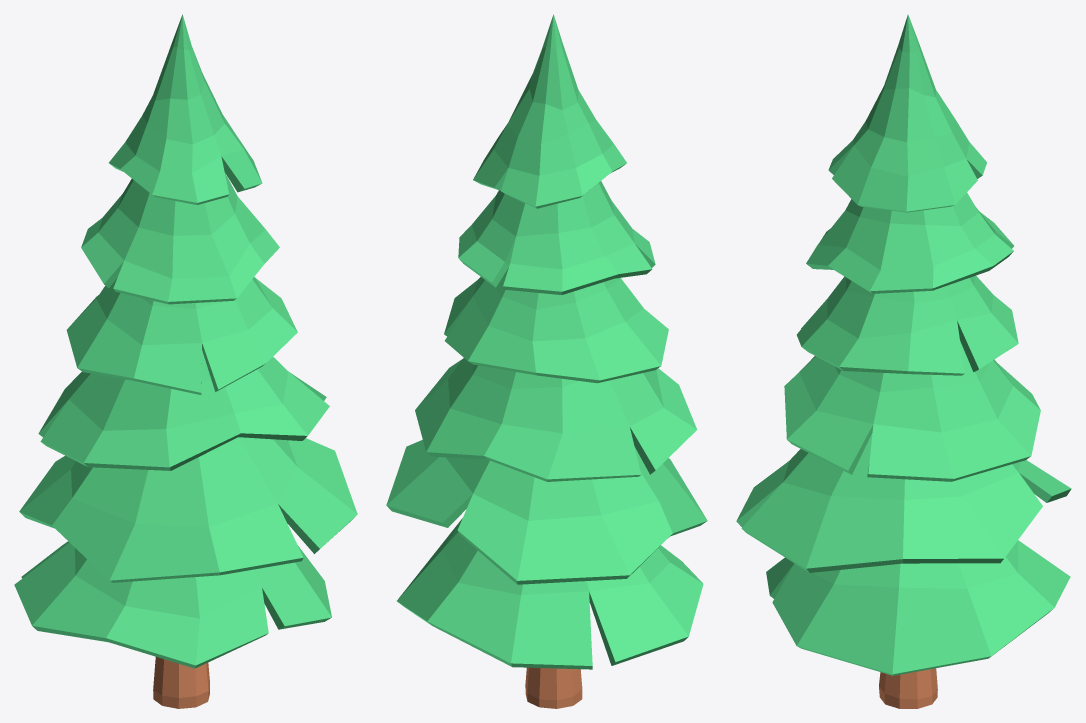
File: PineTree.fbx
The picture shows the model from 3 angles, left to right: view 1: azimuth 30°, elevation 25°; view 2: azimuth 150°, elevation 25°; view 3: azimuth 270°, elevation 25°; orthographic projection.
Visible parts, largest first — view 1: PineTree; view 2: PineTree; view 3: PineTree.
Boxes of the visible parts, x1,y1,x2,y2 form: PineTree: (14,14,357,708); PineTree: (386,14,707,708); PineTree: (736,14,1071,708).
Size of the model in its own units: 224 by 498 by 222.
